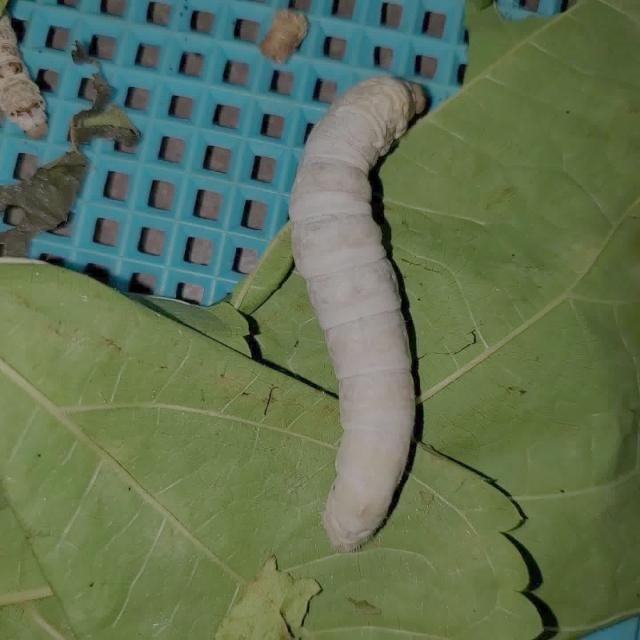Grasserie: (262, 60, 479, 560)
